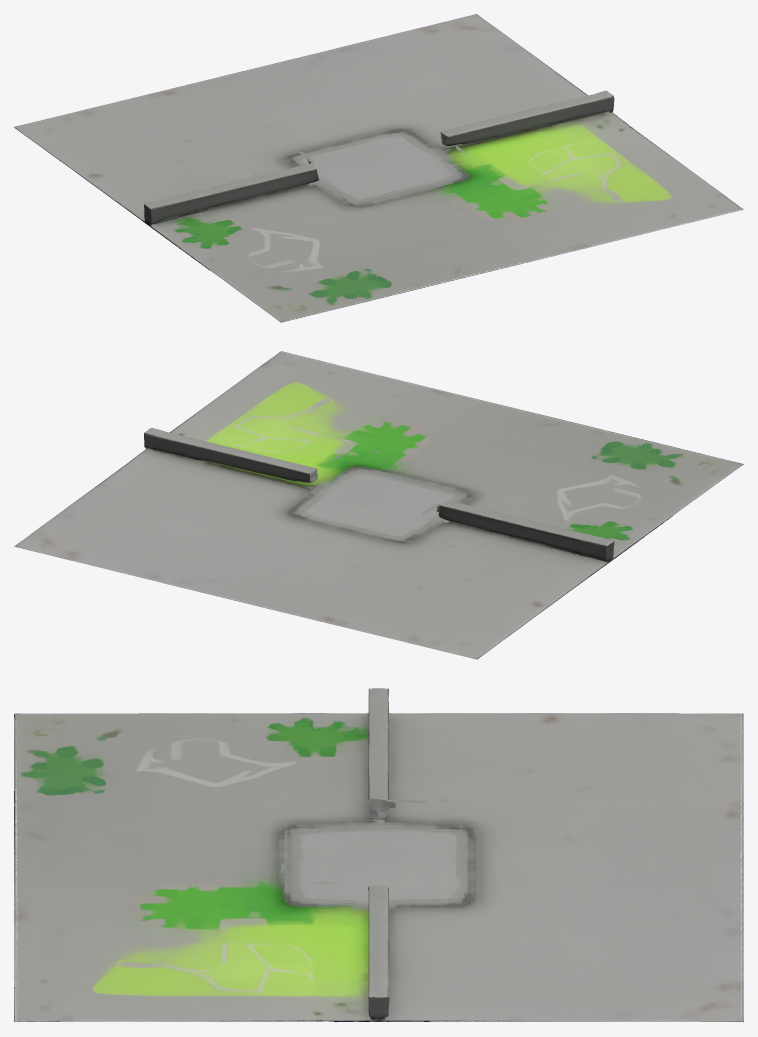
Rendered from warehouse.glb.
The picture shows the model from 3 angles, top to bottom: view 1: azimuth 30°, elevation 25°; view 2: azimuth 150°, elevation 25°; view 3: azimuth 270°, elevation 25°; orthographic projection. The views are drawn at different scales.
Visible parts, largest first — view 1: geometry_0; view 2: geometry_0; view 3: geometry_0.
Boxes of the visible parts, left/top/right/bottom form: geometry_0: left=14, top=14, right=743, bottom=322; geometry_0: left=14, top=351, right=743, bottom=659; geometry_0: left=14, top=688, right=743, bottom=1022.
Size of the model in its own units: 1 by 0.0423 by 1.
1 material, 1 textured.
